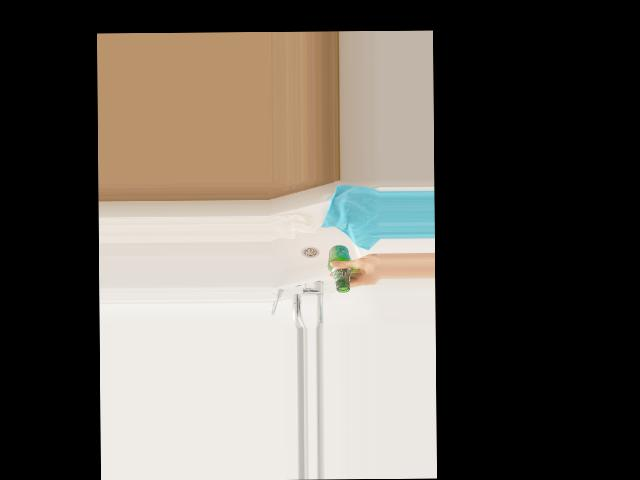beer: (327, 244, 353, 292)
